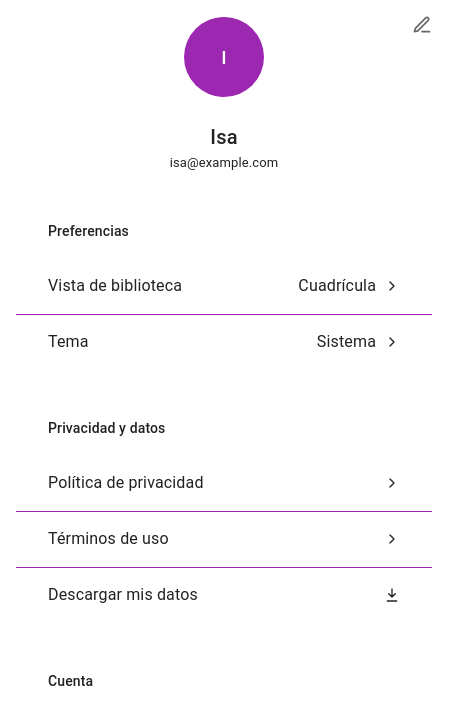
Given the download my data row of the profile › When the server limits the downloads › Then its message is shown and nothing is saved
Check: the heading "Isa" is shown, box left=210, top=125, right=238, bottom=149
Click the button "Descargar mis datos".
click(123, 594)  # box left=16, top=566, right=432, bottom=622
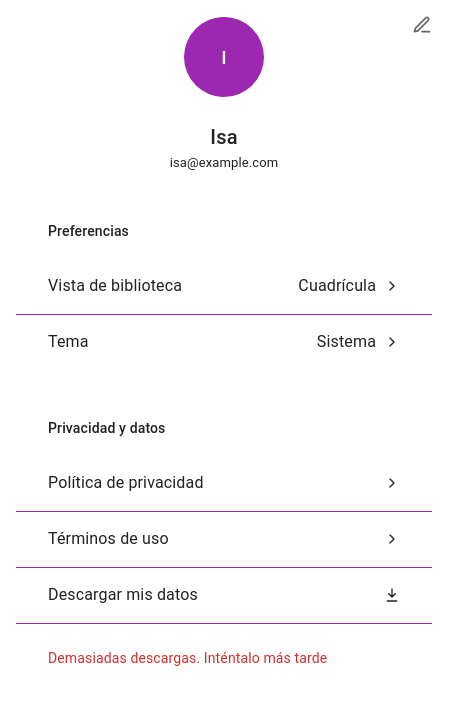
Check: the message shows "Demasiadas descargas", box left=48, top=650, right=327, bottom=666
